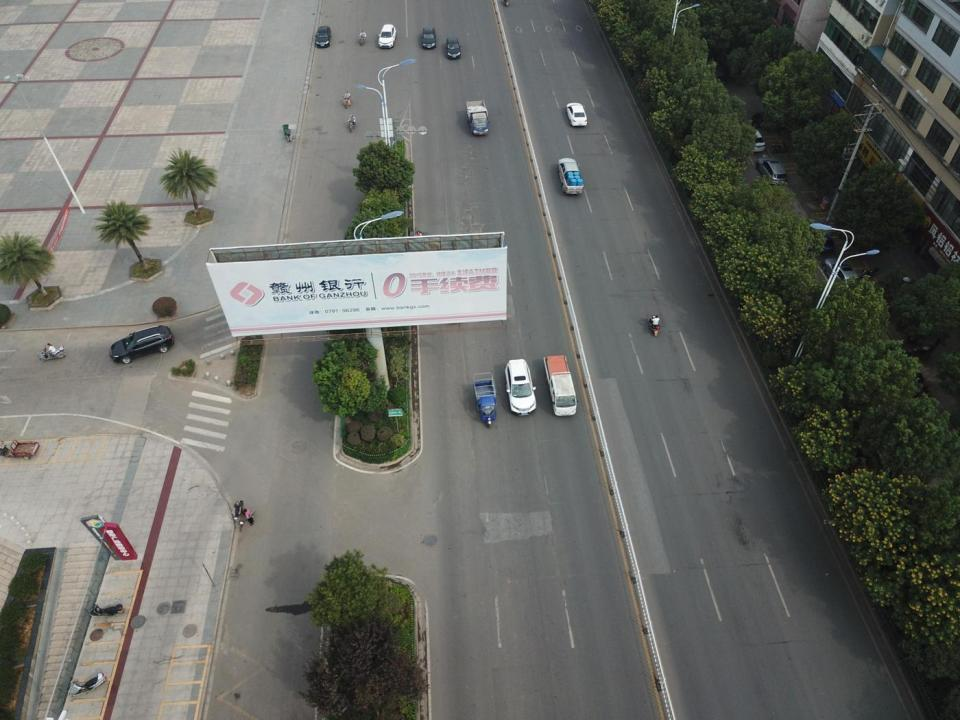car: (110, 325, 174, 364), (824, 257, 865, 300), (505, 360, 536, 416), (804, 222, 834, 253), (756, 156, 788, 185), (743, 128, 766, 154), (564, 102, 587, 127), (378, 24, 396, 47), (420, 26, 437, 49), (315, 26, 331, 48), (446, 36, 459, 60)
truck: (543, 355, 577, 416), (558, 158, 584, 195), (466, 99, 489, 136)
